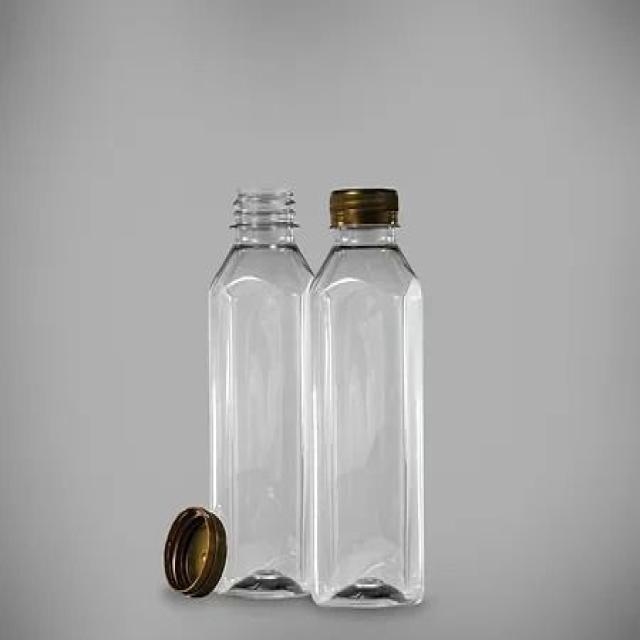bottom: (308, 558, 430, 615), (214, 543, 312, 607)
cap: (154, 501, 224, 596), (324, 182, 404, 238)
no_cap: (230, 185, 304, 233)
